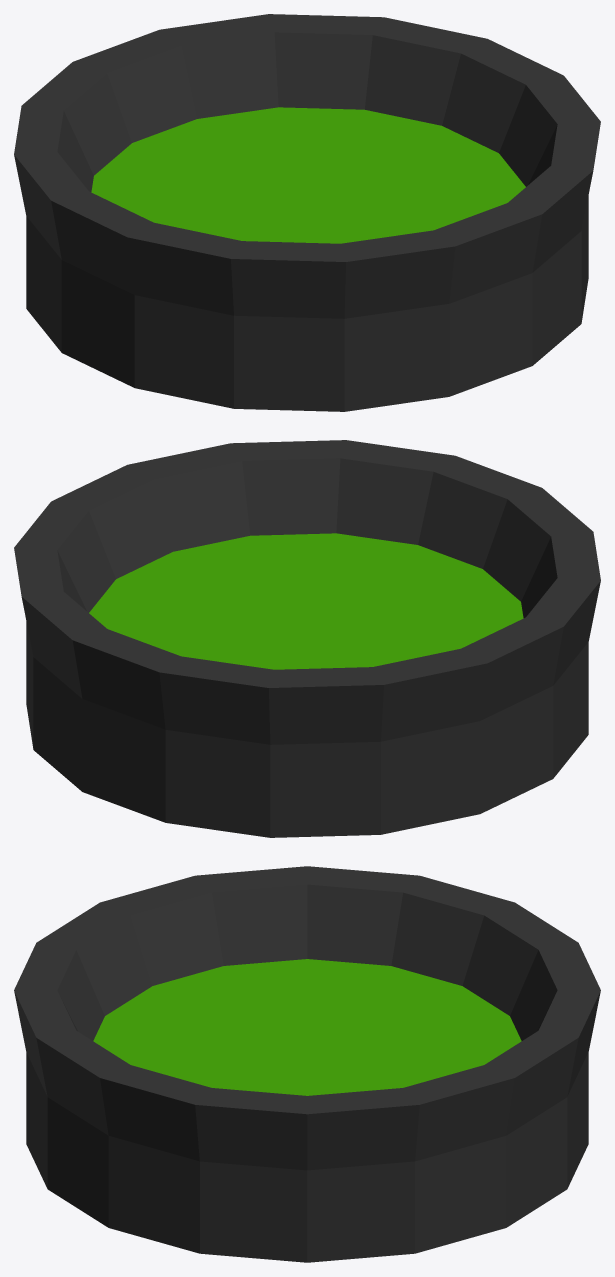
Rendered from Well.glb.
3 views of the same model, one above another, from view 1: azimuth 30°, elevation 25°; view 2: azimuth 150°, elevation 25°; view 3: azimuth 270°, elevation 25° (orthographic).
Parts seen in each view (by area): view 1: Cylinder.001; view 2: Cylinder.001; view 3: Cylinder.001.
Boxes of the visible parts, bbox=[...] form: Cylinder.001: bbox=[14, 14, 600, 411]; Cylinder.001: bbox=[14, 440, 600, 837]; Cylinder.001: bbox=[14, 866, 600, 1262].
Size of the model in its own units: 2.09 by 0.6029 by 2.09.
